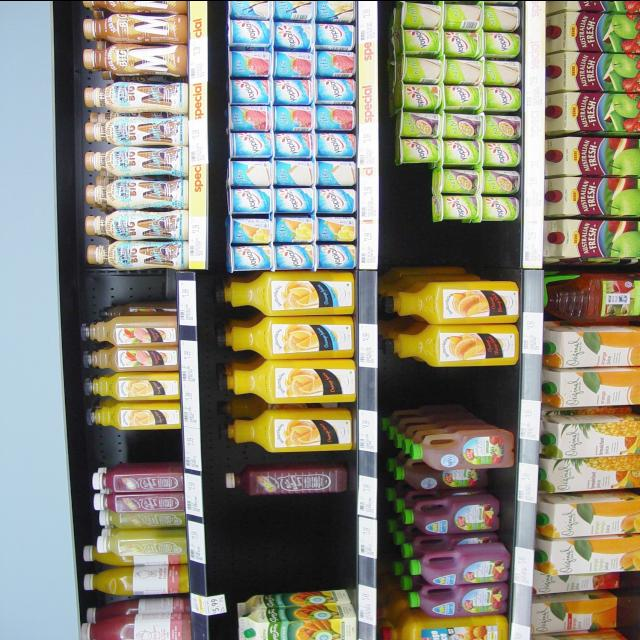empty_space: (220, 490, 360, 590), (394, 220, 515, 280), (388, 362, 515, 418), (78, 427, 182, 469), (82, 269, 178, 311), (389, 164, 432, 216), (613, 572, 639, 636)
